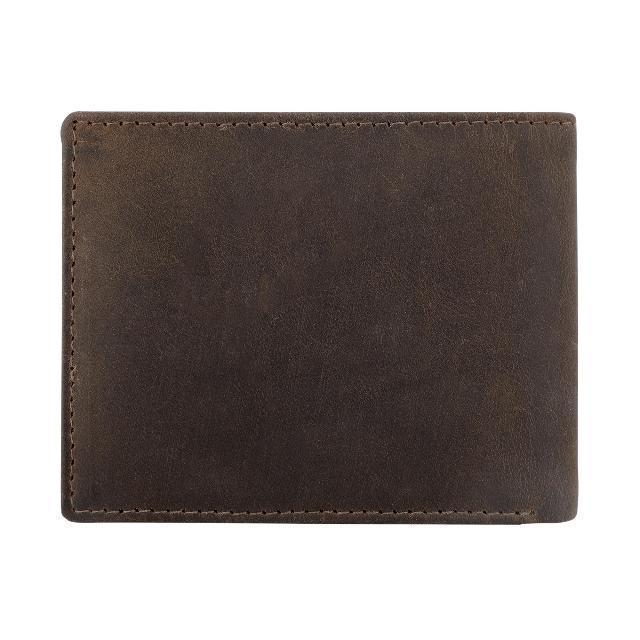wallet: (60, 110, 580, 524)
